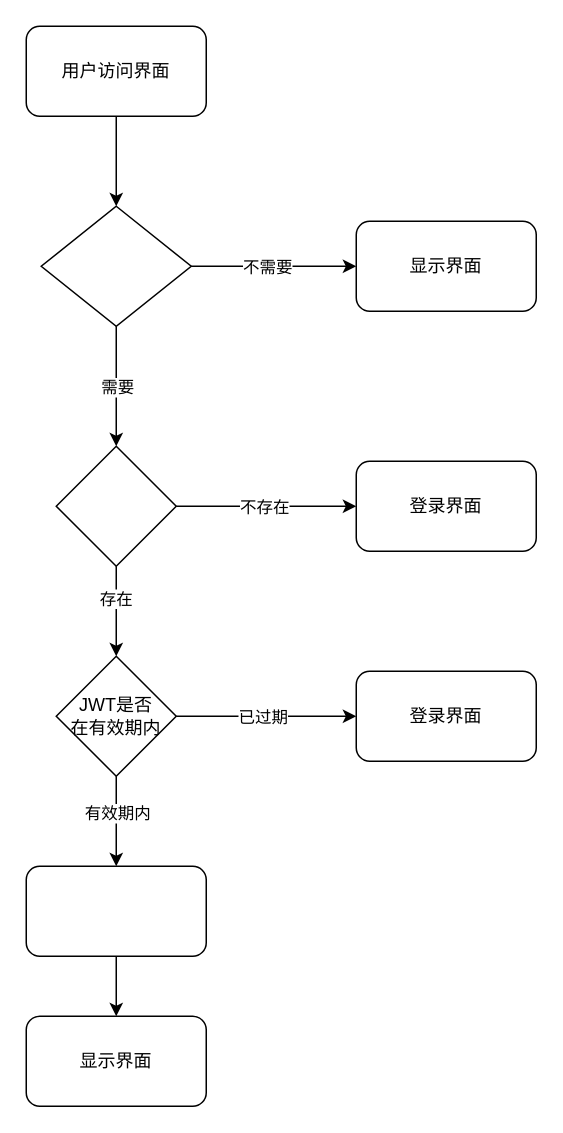
Image size: 563x1133. Some labels were removed from this diagram. Here are the shapes that lost their labels. From the top down, the centre of each, then its label:
At pixel 115 265: "判断是否需要 用户身份信息".
At pixel 115 505: "是否存在 JWT".
At pixel 115 910: "业务操作 （如鉴权）".
